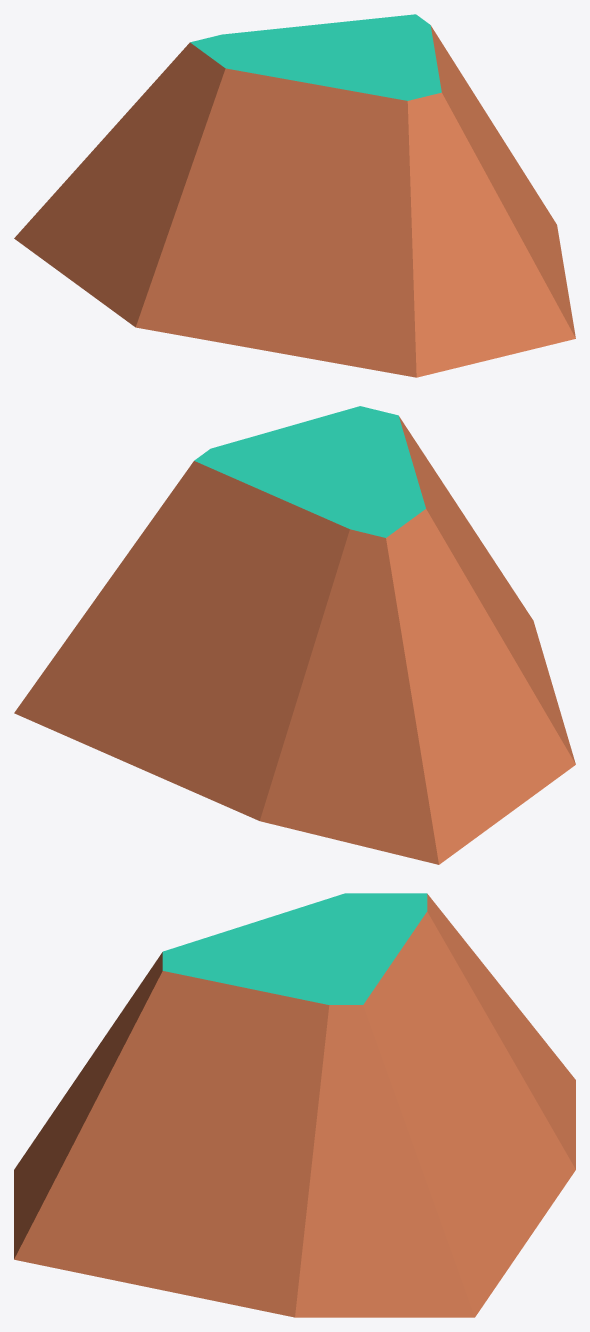
File: rock-small-b.glb
The picture shows the model from 3 angles, top to bottom: view 1: azimuth 30°, elevation 25°; view 2: azimuth 150°, elevation 25°; view 3: azimuth 270°, elevation 25°; orthographic projection. The views are drawn at different scales.
Parts seen in each view (by area): view 1: rock_smallB; view 2: rock_smallB; view 3: rock_smallB.
Part boxes in pixels (x1,y1,x2,y2): rock_smallB: [14, 14, 575, 377]; rock_smallB: [14, 406, 575, 864]; rock_smallB: [14, 893, 575, 1317].
Size of the model in its own units: 0.3608 by 0.1768 by 0.3608.
